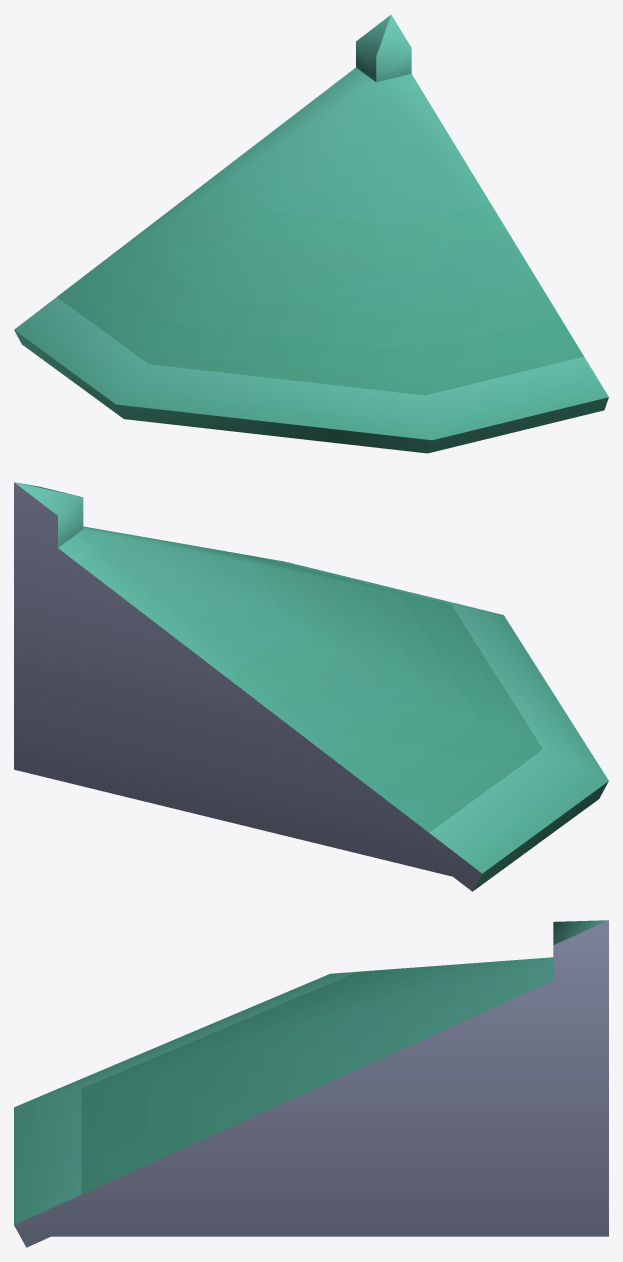
The model's file is roof-corner-round.glb.
The picture shows the model from 3 angles, top to bottom: view 1: azimuth 30°, elevation 25°; view 2: azimuth 150°, elevation 25°; view 3: azimuth 270°, elevation 25°; orthographic projection. The views are drawn at different scales.
Parts seen in each view (by area): view 1: roof-corner-round; view 2: roof-corner-round; view 3: roof-corner-round.
Boxes of the visible parts, box(x1,y1,x2,y2) form: roof-corner-round: box(14, 15, 608, 453); roof-corner-round: box(14, 482, 608, 891); roof-corner-round: box(14, 920, 608, 1247).
Bounding box in the file's own units: 1.07 × 0.6483 × 1.07.
Materials: 1 (1 with a texture image).
